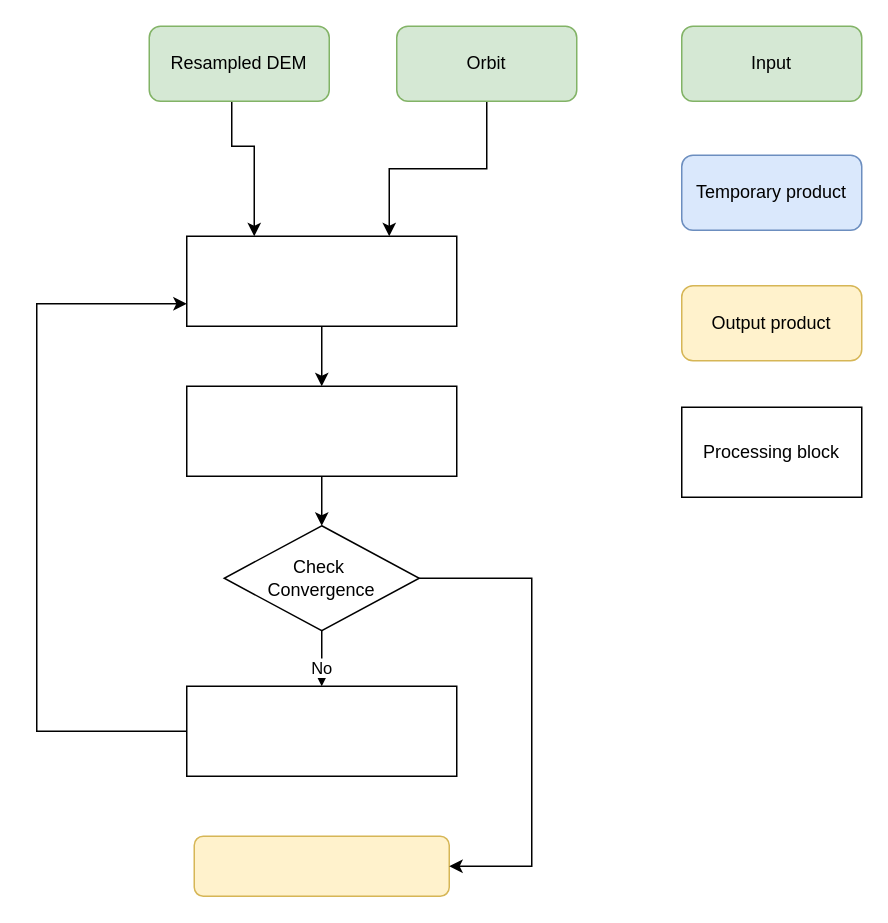
Some shapes in this 888 by 923 pixel diagram are drawn without their labels. Each missing label, with the centre of its shape:
"Evaluate orbital data & range vector" goes at pixel 321 280.
"Evaluate zero-Doppler condition" goes at pixel 321 430.
"Geo2Radar Association Matrix" goes at pixel 321 865.
"Update observation time" goes at pixel 321 730.
